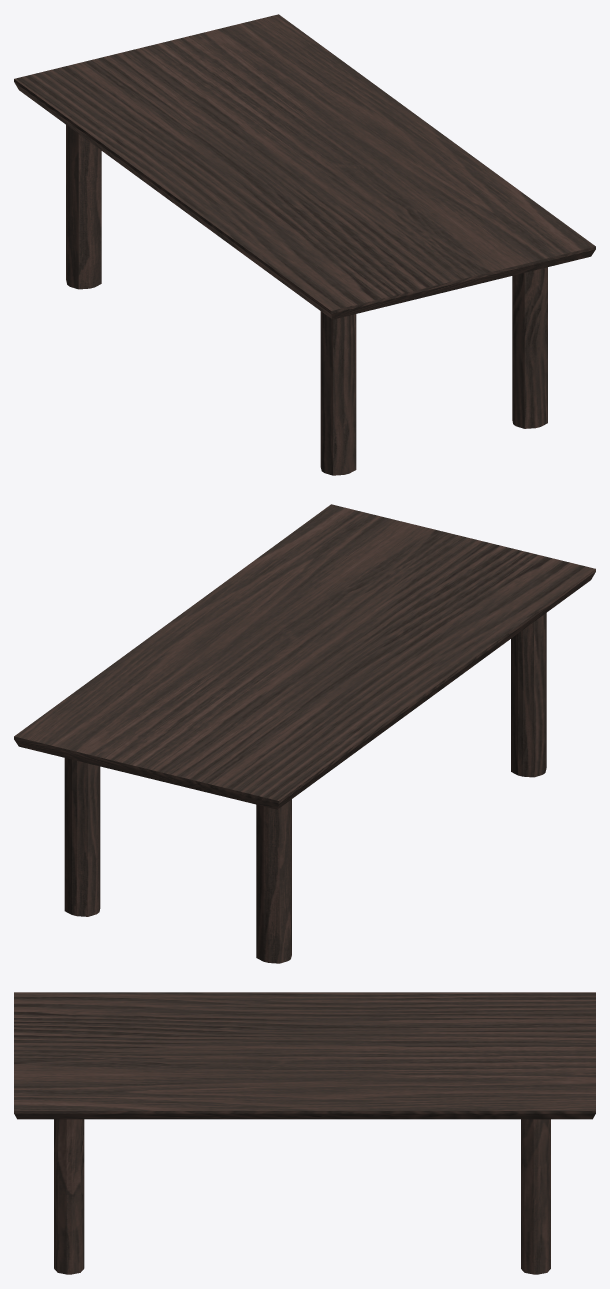
File: wood_table_dark.glb
3 renders of one model, top to bottom at view 1: azimuth 30°, elevation 25°; view 2: azimuth 150°, elevation 25°; view 3: azimuth 270°, elevation 25°, orthographic. The views are drawn at different scales.
Visible parts, largest first — view 1: Cube.1571; view 2: Cube.1571; view 3: Cube.1571.
Part boxes in pixels (x1,y1,x2,y2): Cube.1571: (14, 14, 595, 475); Cube.1571: (14, 504, 595, 963); Cube.1571: (14, 992, 595, 1274).
Size of the model in its own units: 1.34 by 0.914 by 2.79.
1 material, 1 textured.
